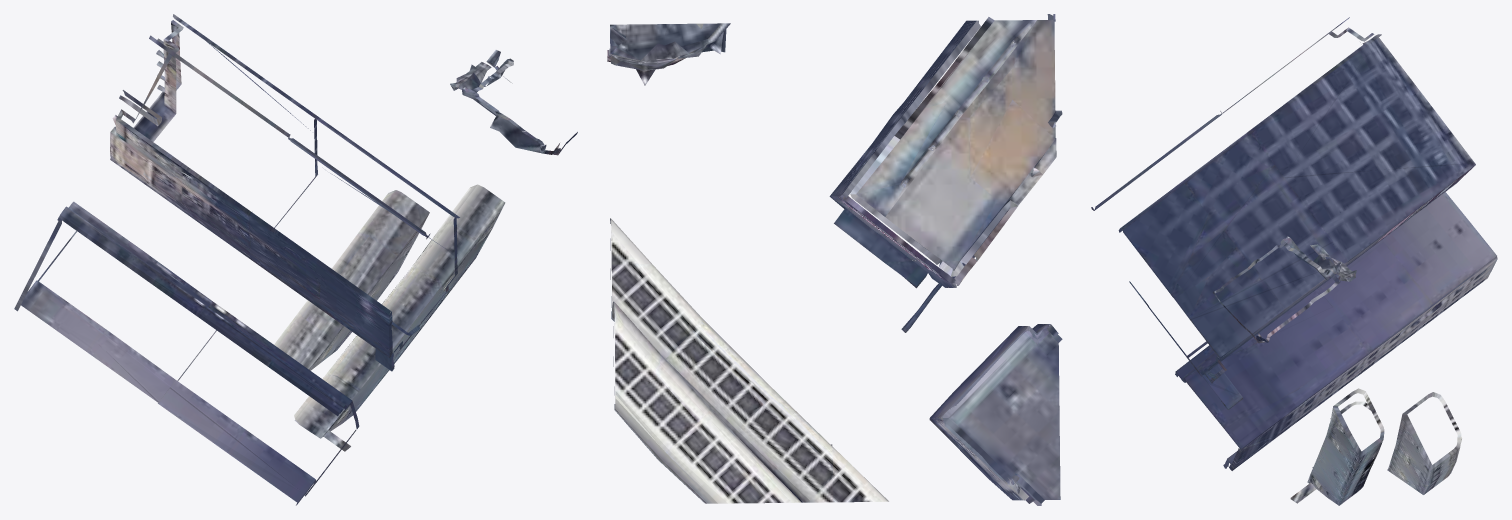
The picture shows the model from 3 angles, left to right: view 1: azimuth 30°, elevation 25°; view 2: azimuth 150°, elevation 25°; view 3: azimuth 270°, elevation 25°; orthographic projection. The views are drawn at different scales.
Size of the model in its own units: 54.63 by 50.73 by 44.78.
Materials: 1 (1 with a texture image).
